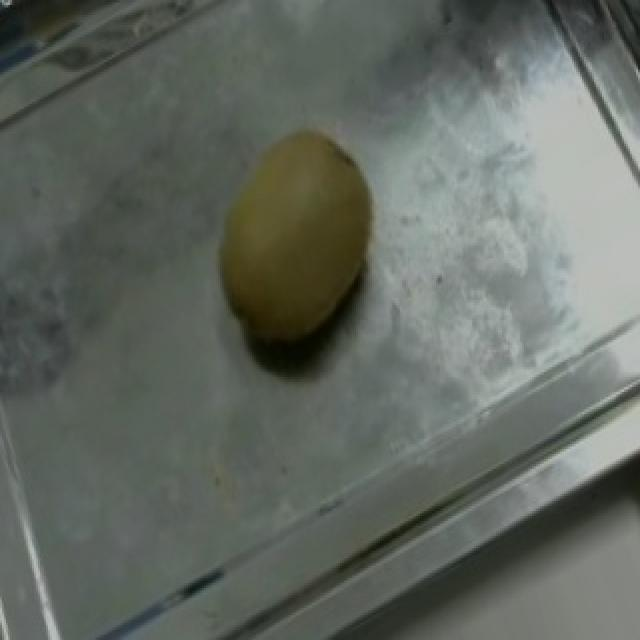Fruit: (180, 107, 414, 387)
